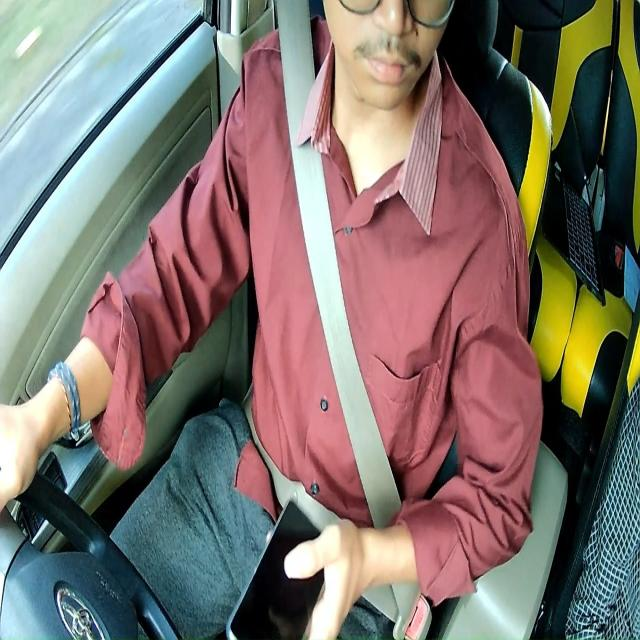phone: (226, 498, 328, 640)
